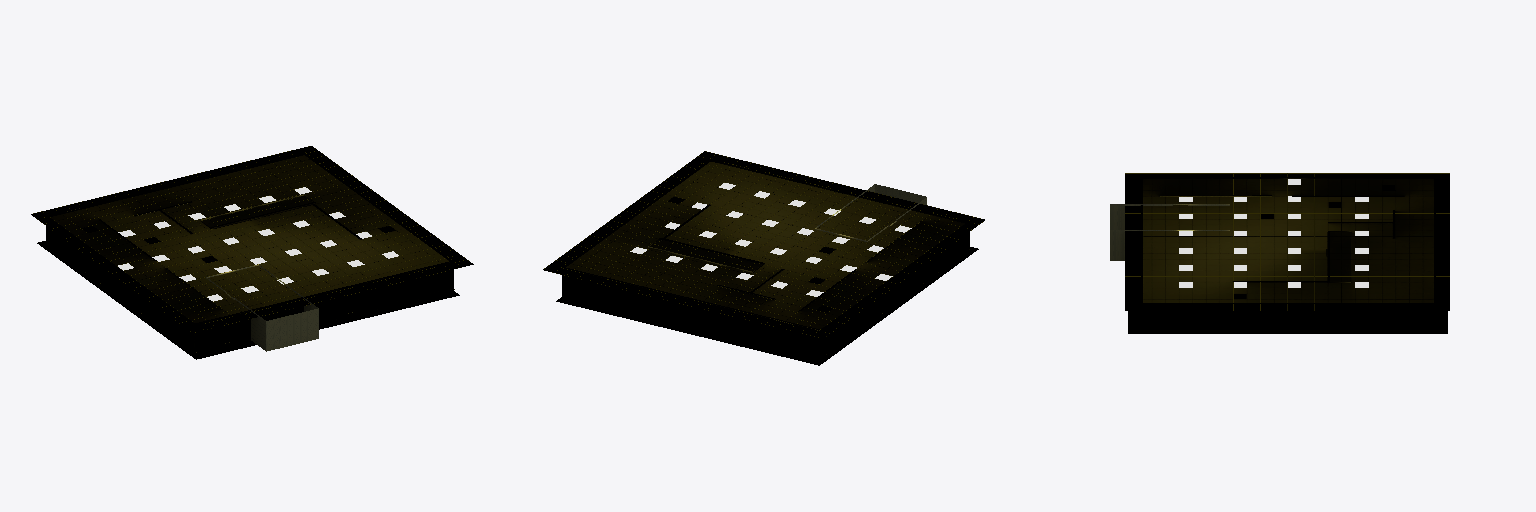
3 renders of one model, left to right at view 1: azimuth 30°, elevation 25°; view 2: azimuth 150°, elevation 25°; view 3: azimuth 270°, elevation 25°, orthographic.
Visible parts, largest first — view 1: obj11, obj5, obj4, obj2, obj10, obj8, obj9; view 2: obj11, obj5, obj4, obj8, obj10, obj9, obj2; view 3: obj11, obj5, obj4, obj10, obj9, obj2, obj8.
Boxes of the visible parts, <box> form: obj11: <box>31,146,473,332</box>; obj5: <box>46,153,451,353</box>; obj4: <box>45,154,454,352</box>; obj2: <box>206,264,318,351</box>; obj10: <box>118,187,398,301</box>; obj8: <box>37,241,459,359</box>; obj9: <box>33,146,468,332</box>; obj11: <box>543,151,984,338</box>; obj5: <box>562,232,969,360</box>; obj4: <box>563,158,970,357</box>; obj8: <box>556,247,978,365</box>; obj10: <box>630,183,911,296</box>; obj9: <box>544,151,982,337</box>; obj2: <box>815,184,926,241</box>; obj11: <box>1125,174,1449,310</box>; obj5: <box>1140,195,1436,333</box>; obj4: <box>1137,177,1435,330</box>; obj10: <box>1179,179,1368,287</box>; obj9: <box>1125,173,1449,310</box>; obj2: <box>1110,204,1229,260</box>; obj8: <box>1128,311,1447,333</box>.
Bounding box in the file's own units: 27.36 × 2.87 × 28.62.
11 materials, 5 textured.